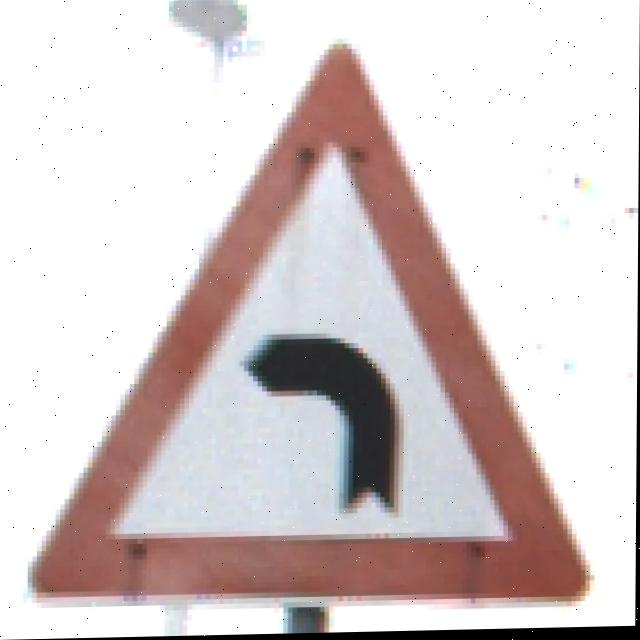left_turn: (106, 89, 583, 602)
